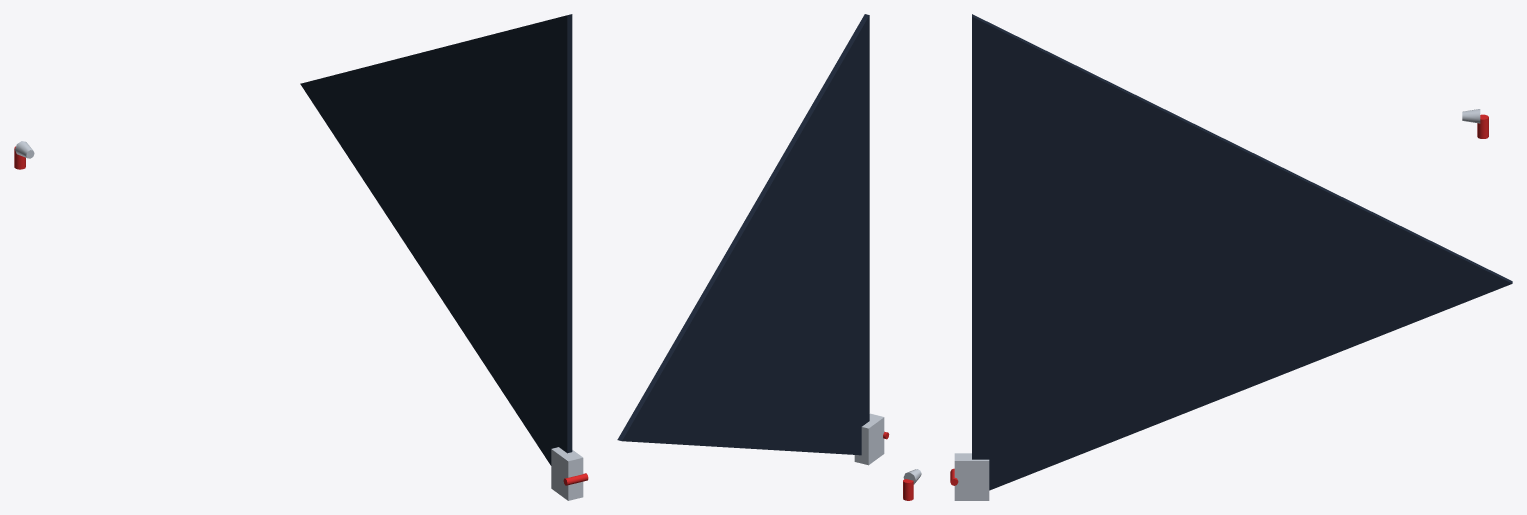
File: cockpit_center_net.glb
3 views of the same model, side by side, from view 1: azimuth 30°, elevation 25°; view 2: azimuth 150°, elevation 25°; view 3: azimuth 270°, elevation 25° (orthographic). The views are drawn at different scales.
Visible parts, largest first — view 1: Cockpit_Center_Net_Hydration_Assembly; view 2: Cockpit_Center_Net_Hydration_Assembly; view 3: Cockpit_Center_Net_Hydration_Assembly.
Boxes of the visible parts, <box> form: Cockpit_Center_Net_Hydration_Assembly: <box>14,14,588,500</box>; Cockpit_Center_Net_Hydration_Assembly: <box>617,14,921,500</box>; Cockpit_Center_Net_Hydration_Assembly: <box>950,14,1512,500</box>.
Size of the model in its own units: 0.3705 by 0.5425 by 0.572.
